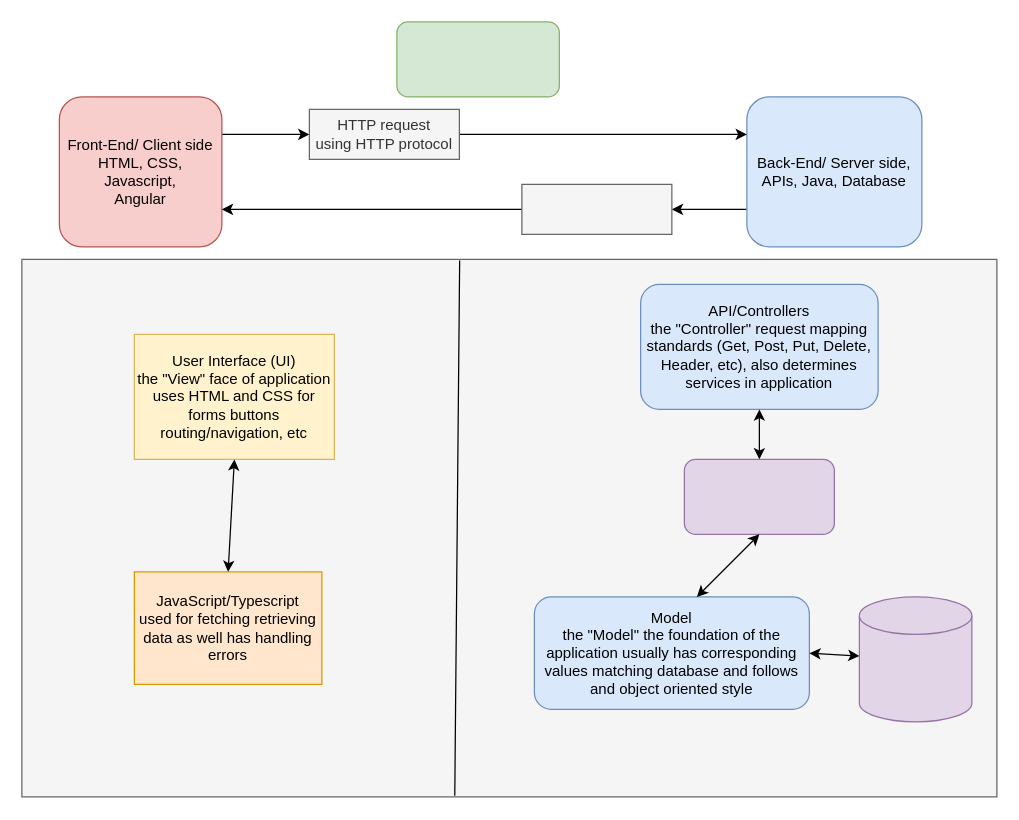
The diagram is 1019 pixels wide and 820 high, and some of its shapes have lost their labels. The shapes that lost their labels are listed below. From the top down, each one's centre as x and y in pixels, then its label:
pixel 477 59: Model View Controller (MVC) Design Pattern
pixel 596 208: HTTP response using HTTP protocol
pixel 758 496: Service (Business Logic) the processing logic of application
pixel 915 659: Database used to saved processed data from model
